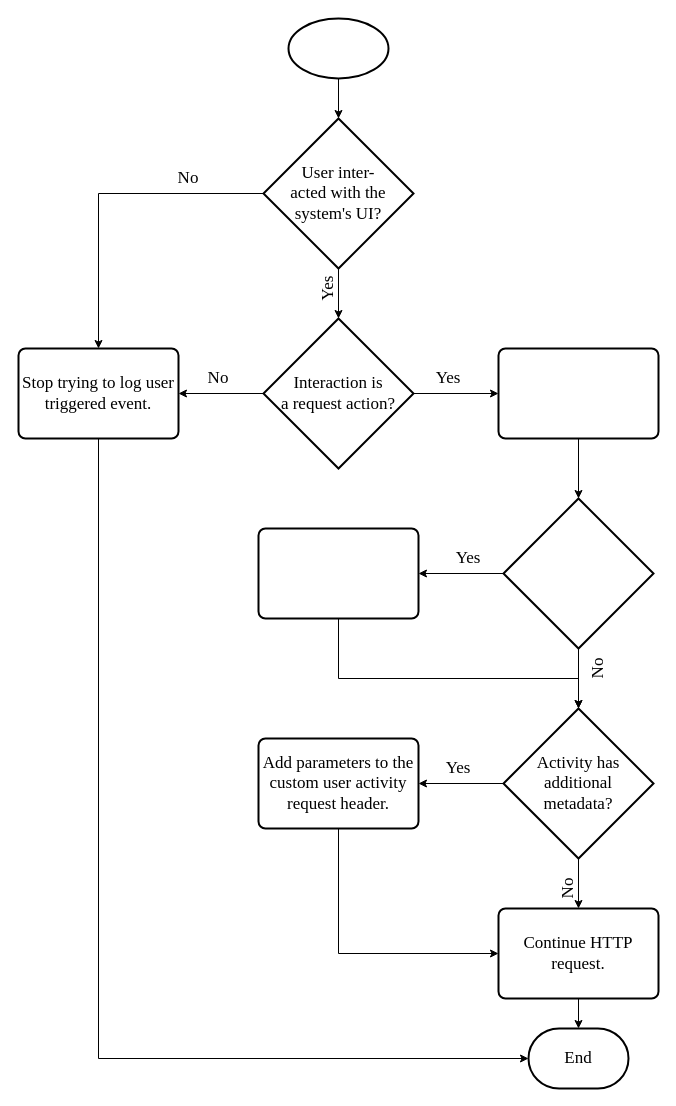
This 676x1106 diagram has some shape labels left out. The shapes that lost their labels are listed below. From the top down, each one's box as (x1, y1, x2, y2) in pixels, then its label:
(287, 17, 389, 79): Start
(497, 347, 659, 439): Update HTTP request headers
(257, 527, 419, 619): Add HTML element's ID and tag to the custom request header.
(502, 497, 654, 649): Clicked element can be found?
